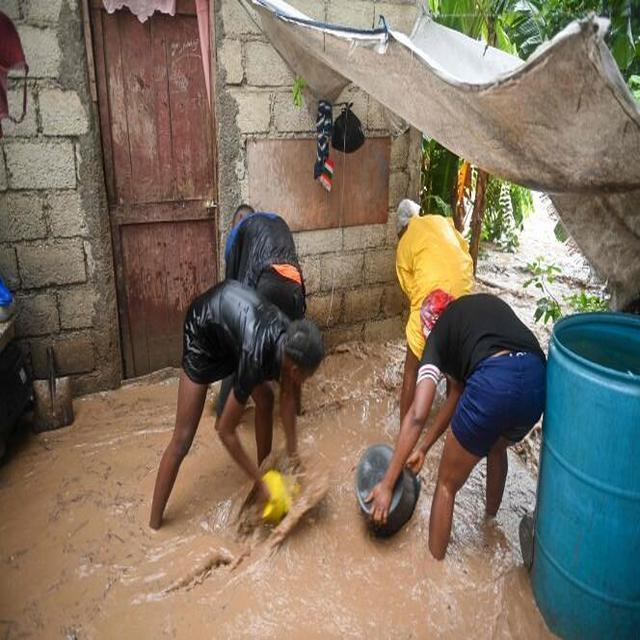Person-RiskLevel2: (368, 289, 560, 562), (143, 273, 326, 539), (380, 194, 482, 462), (209, 190, 310, 443)
